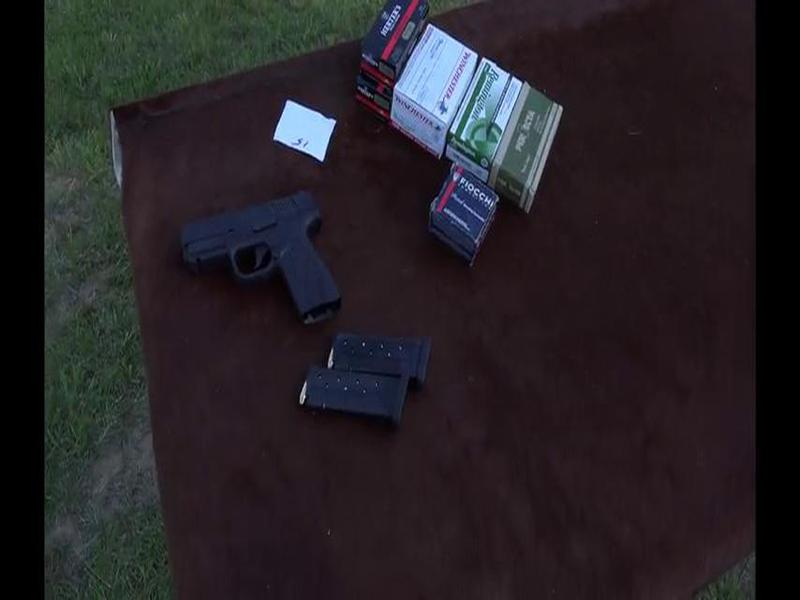Pistola: (169, 181, 354, 334)
